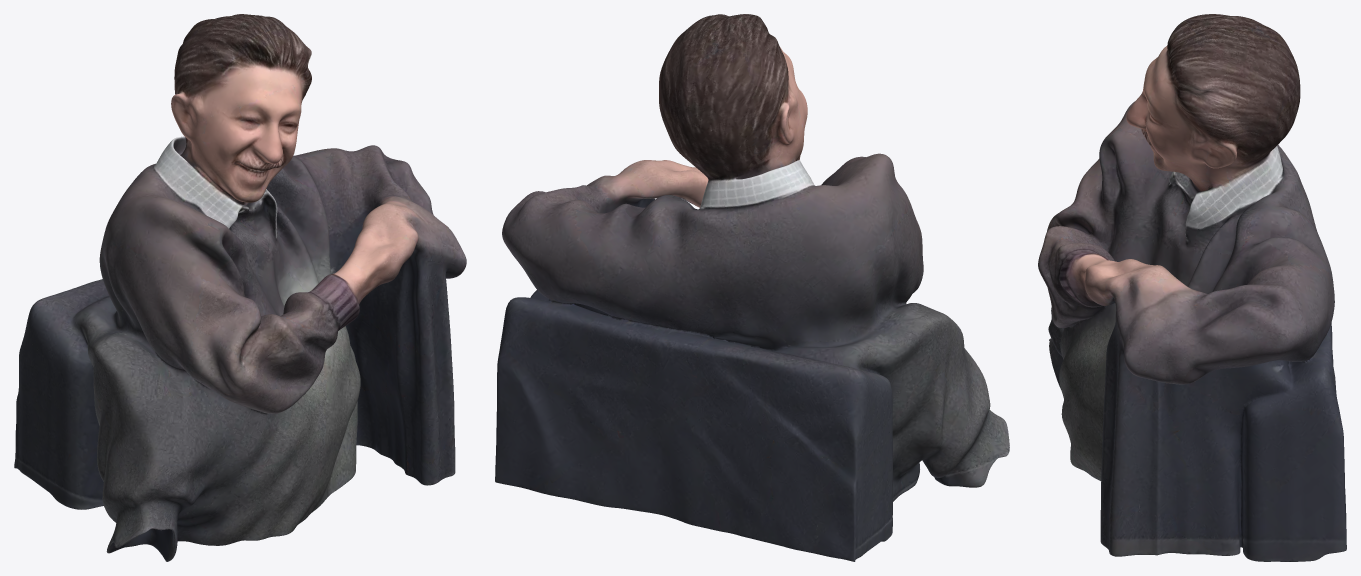
Rendered from Meshy_AI_Warm_Smile_Portrait_1024071034_texture.glb.
3 renders of one model, left to right at view 1: azimuth 30°, elevation 25°; view 2: azimuth 150°, elevation 25°; view 3: azimuth 270°, elevation 25°, orthographic. The views are drawn at different scales.
Bounding box in the file's own units: 1.7 × 1.9 × 1.16.
Materials: 1 (1 with a texture image).
